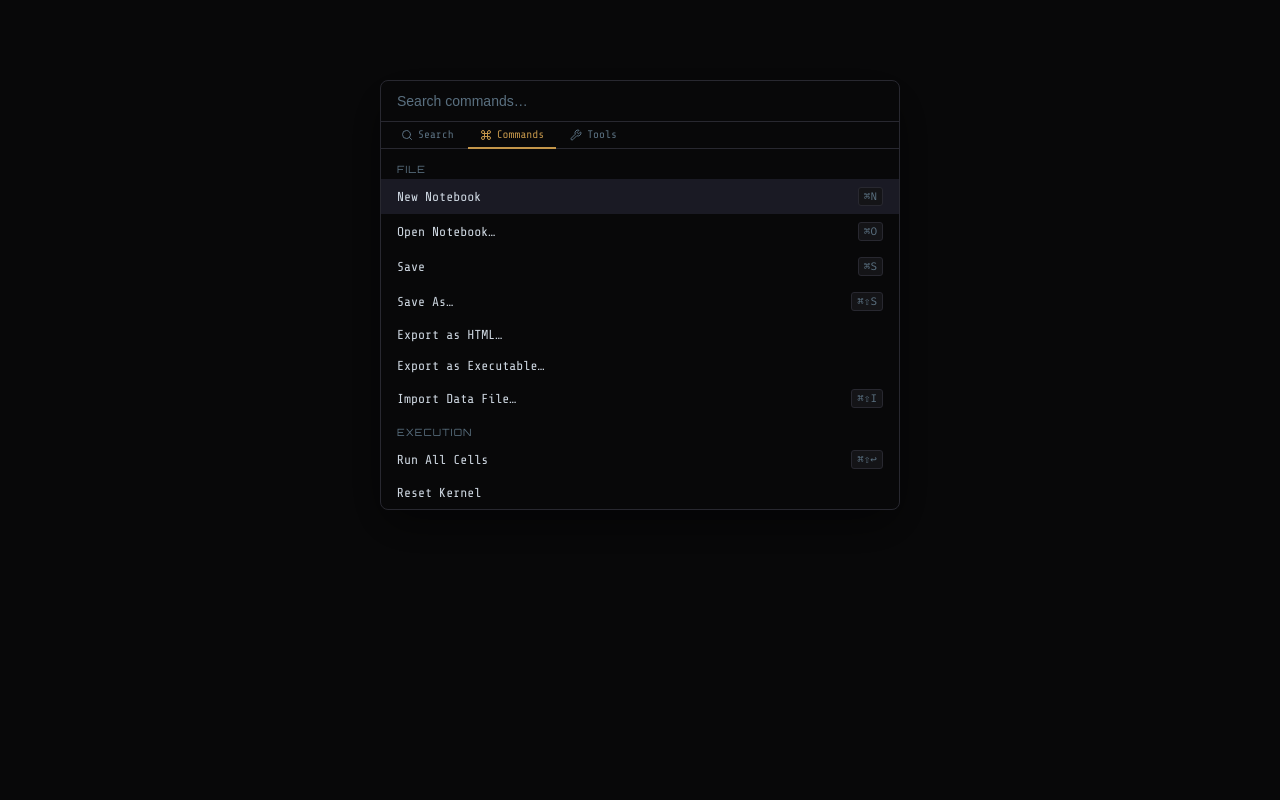
Scenario: CommandPalette — search › shows notebook search results for matching cell content
Type "greeting" into the field with class "cmd-palette-input".
click(640, 102); type("greeting")  # box x1=381 y1=81 x2=899 y2=122
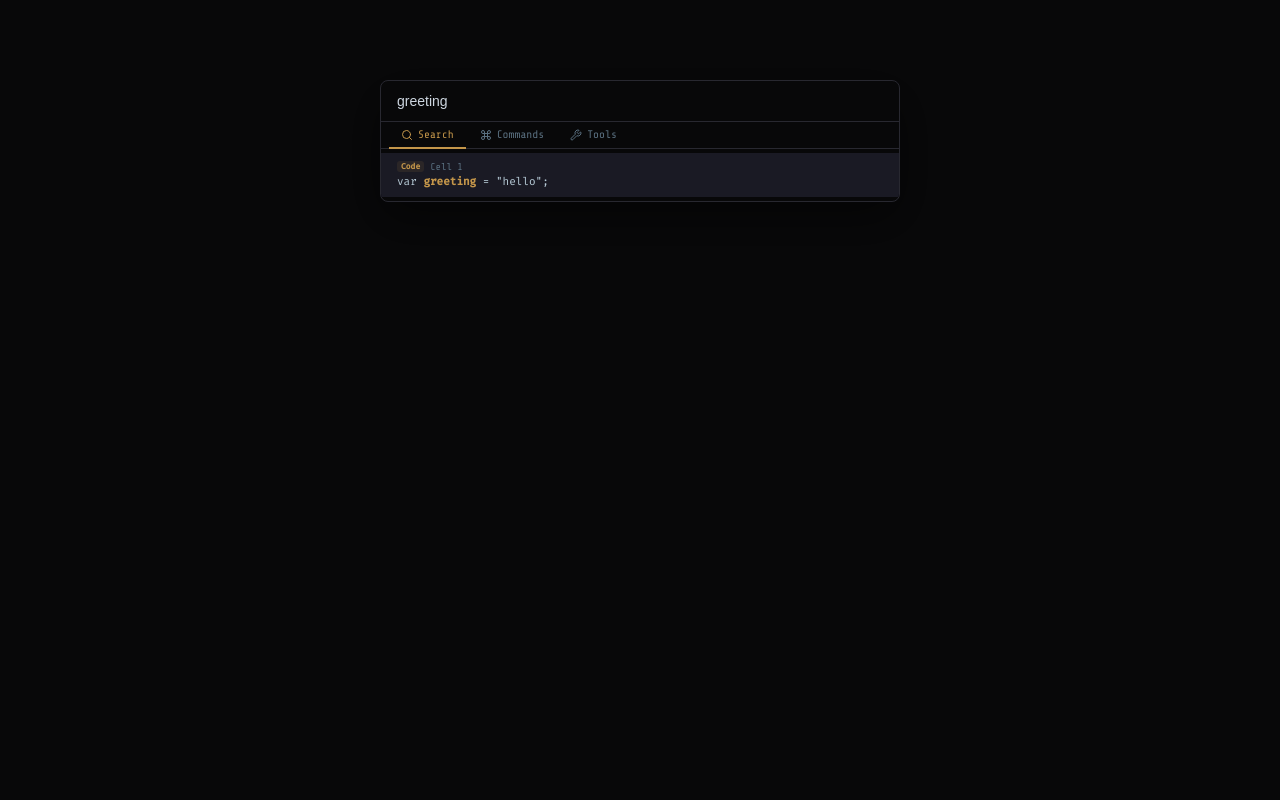
Expected: the element with class "cmd-palette-search-result" is shown, x1=381 y1=153 x2=899 y2=197
Expected: the element with class "cmd-palette-search-result" shows "greeting", x1=423 y1=174 x2=476 y2=189
